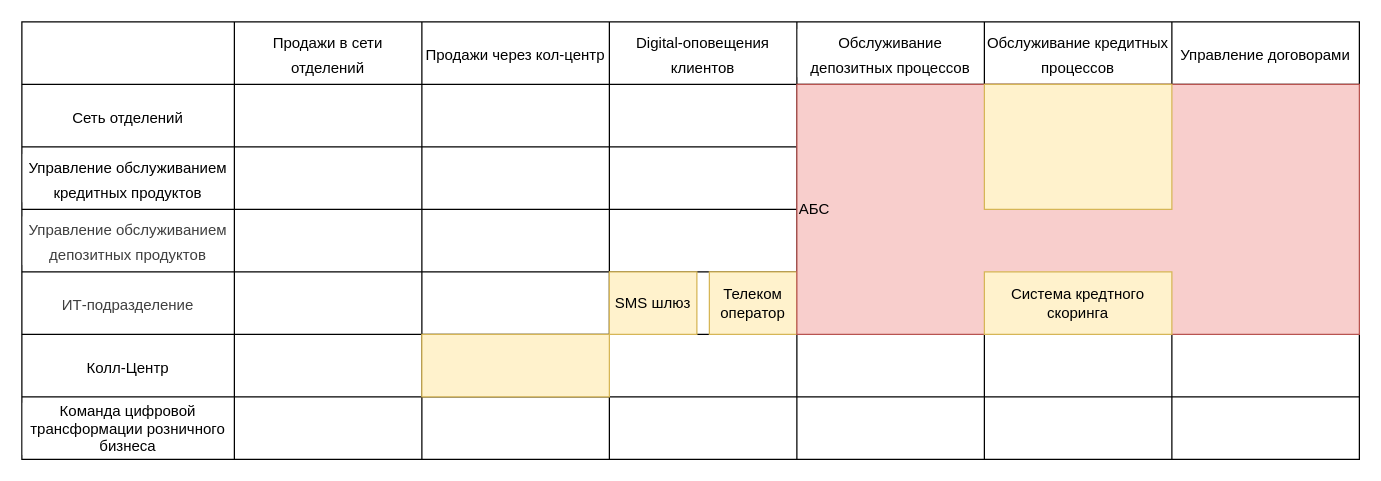
Image size: 1381x481. Some labels were removed from this diagram. The shapes that lost their labels are listed below. From the top down, each one's centre as x and y in pixels, then its label:
the point at 1077,146: Кредитный конвеер
the point at 515,365: Система call-центра
